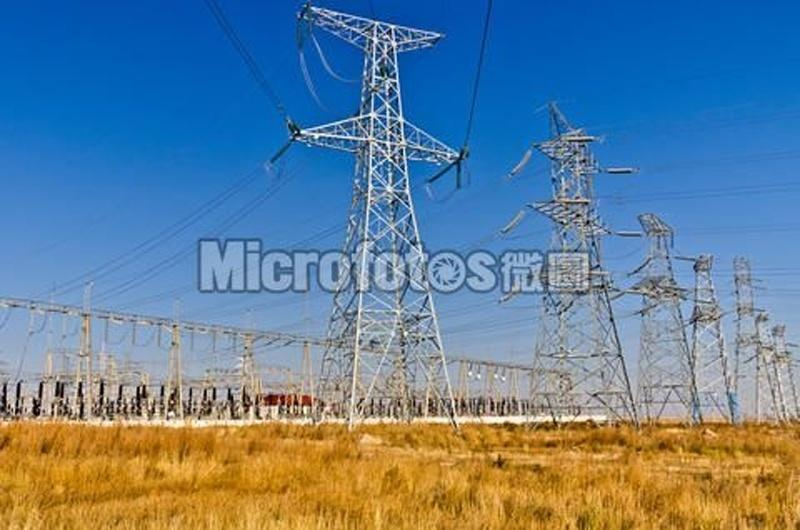power_tower: (267, 4, 482, 423), (517, 108, 638, 424), (628, 210, 710, 426)
